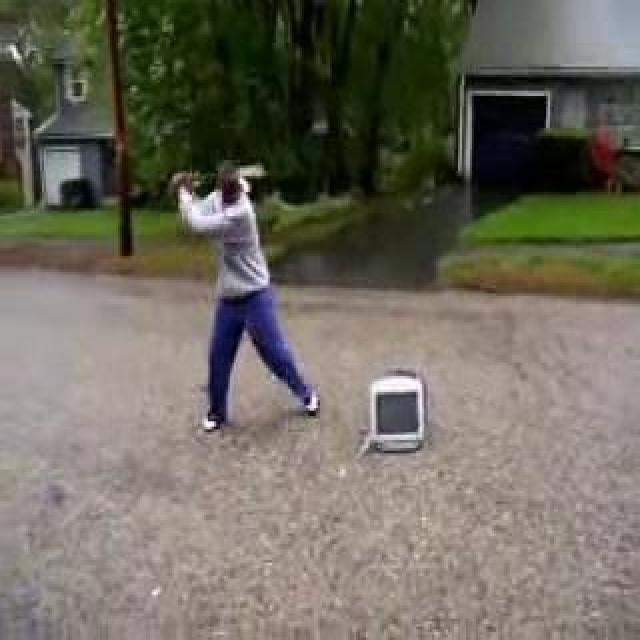fight: (161, 119, 451, 497)
